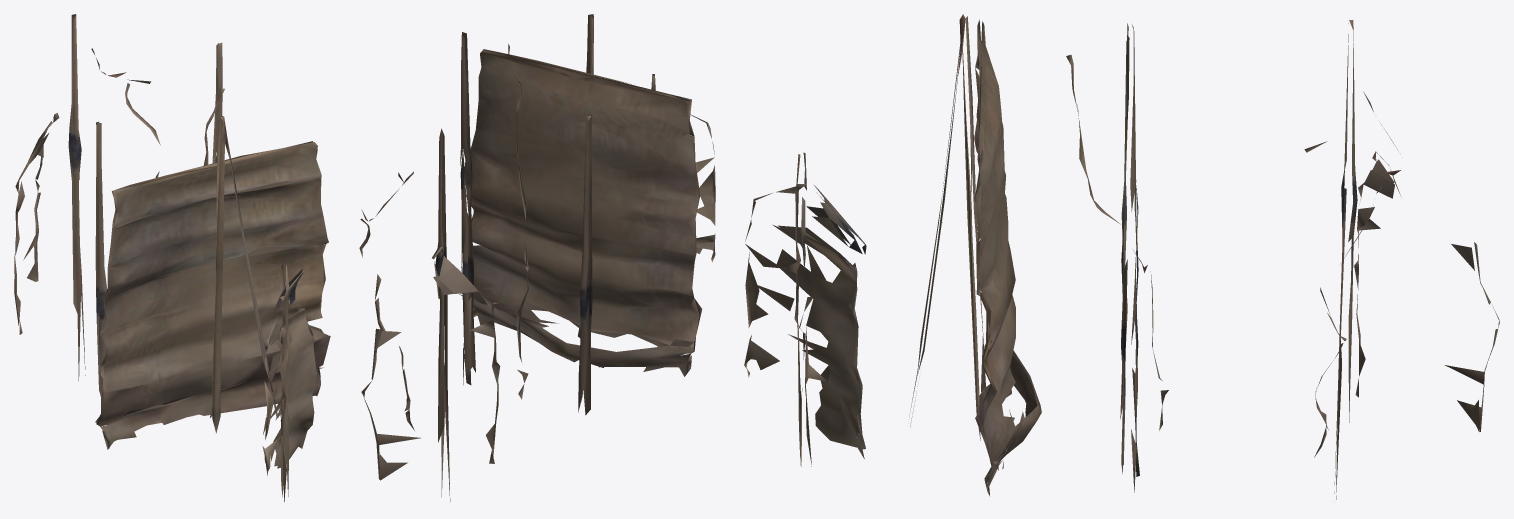
File: buom-xiem.glb
The picture shows the model from 3 angles, left to right: view 1: azimuth 30°, elevation 25°; view 2: azimuth 150°, elevation 25°; view 3: azimuth 270°, elevation 25°; orthographic projection. The views are drawn at different scales.
Visible parts, largest first — view 1: Thuyen_Xiem_BUOM; view 2: Thuyen_Xiem_BUOM; view 3: Thuyen_Xiem_BUOM.
Part boxes in pixels (x1,y1,x2,y2): Thuyen_Xiem_BUOM: (14,14,330,501); Thuyen_Xiem_BUOM: (359,14,715,501); Thuyen_Xiem_BUOM: (744,14,1499,499).
Bounding box in the file's own units: 7.83 × 12.56 × 16.89.
Materials: 1 (1 with a texture image).
